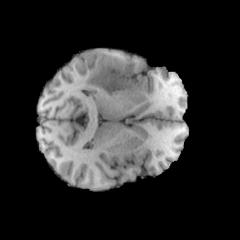glioma: (84, 56, 135, 94)
